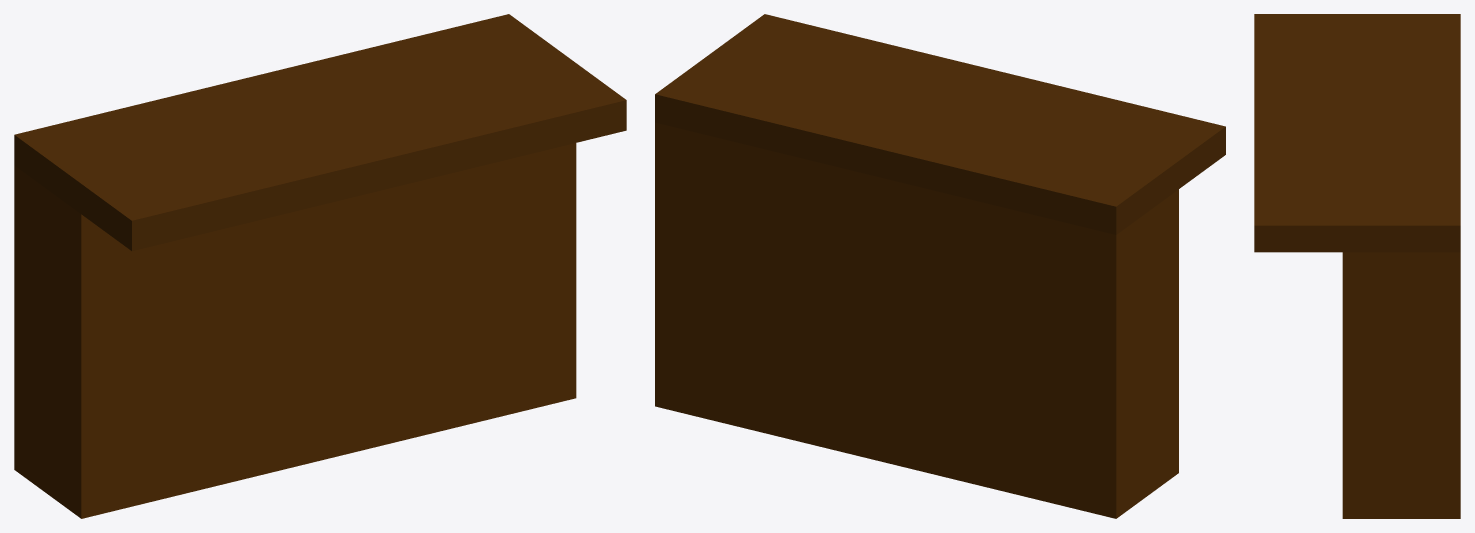
File: barnayastoika.obj
3 views of the same model, side by side, from view 1: azimuth 30°, elevation 25°; view 2: azimuth 150°, elevation 25°; view 3: azimuth 270°, elevation 25° (orthographic). The views are drawn at different scales.
Size of the model in its own units: 1.7 by 1.1 by 0.7.
Materials: 1 (1 with a texture image).
